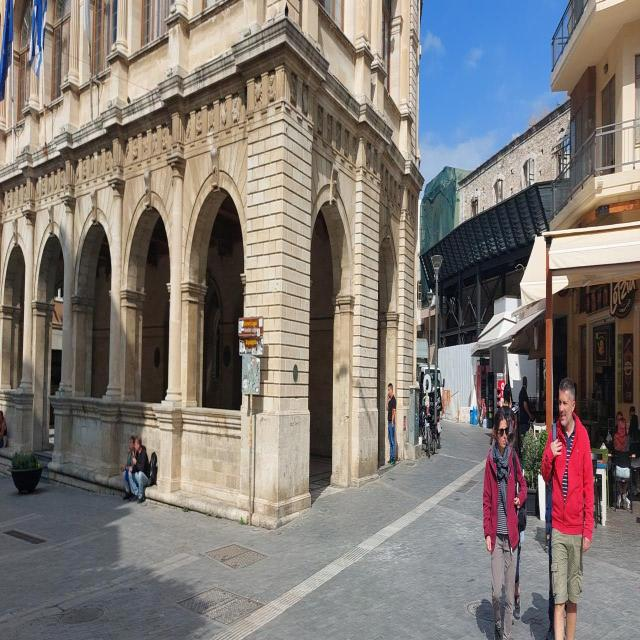Loggia: (1, 1, 441, 530)
